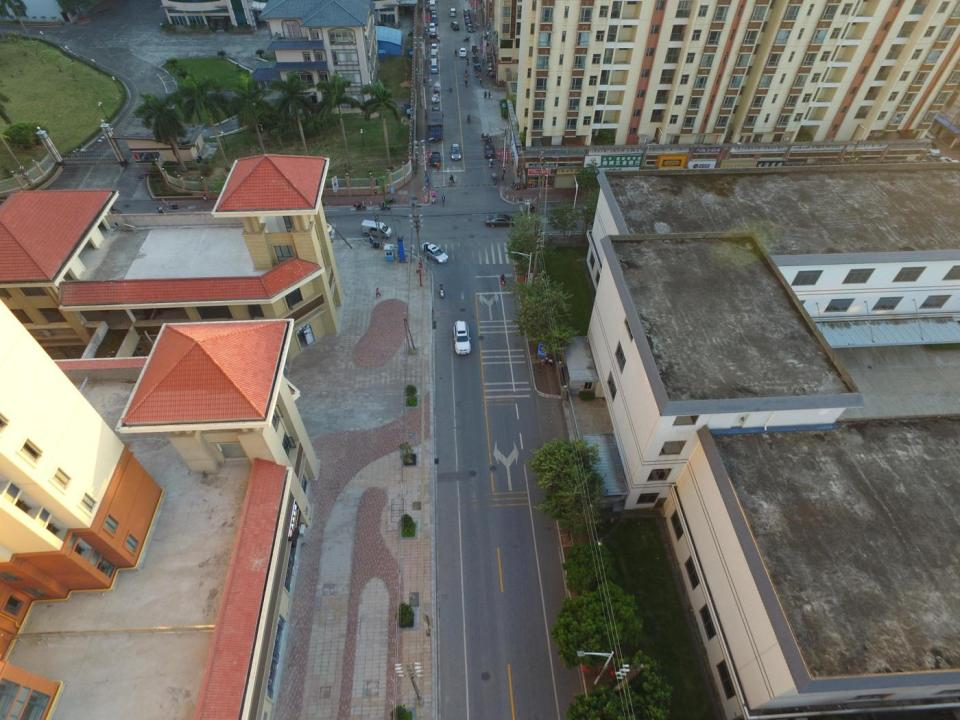car: (453, 319, 471, 356), (420, 242, 448, 264), (486, 214, 516, 228), (451, 143, 462, 161), (429, 151, 440, 166), (484, 144, 495, 158), (429, 42, 439, 54), (458, 47, 468, 57), (465, 23, 474, 32), (429, 22, 436, 33), (462, 8, 471, 16), (464, 14, 471, 24), (449, 8, 456, 16)
truck: (428, 106, 444, 142), (429, 32, 438, 44)
van: (360, 219, 392, 239), (450, 20, 460, 31), (431, 59, 438, 73), (430, 50, 437, 62), (428, 0, 436, 10)
